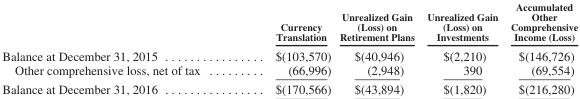table: (1, 0, 577, 96)
table column: (1, 0, 237, 96), (237, 0, 334, 96), (334, 0, 420, 96), (420, 0, 503, 96), (503, 0, 577, 96)
table column header: (1, 0, 577, 45)
table row: (1, 0, 577, 45), (1, 45, 577, 62), (1, 62, 577, 79), (1, 79, 577, 96)
